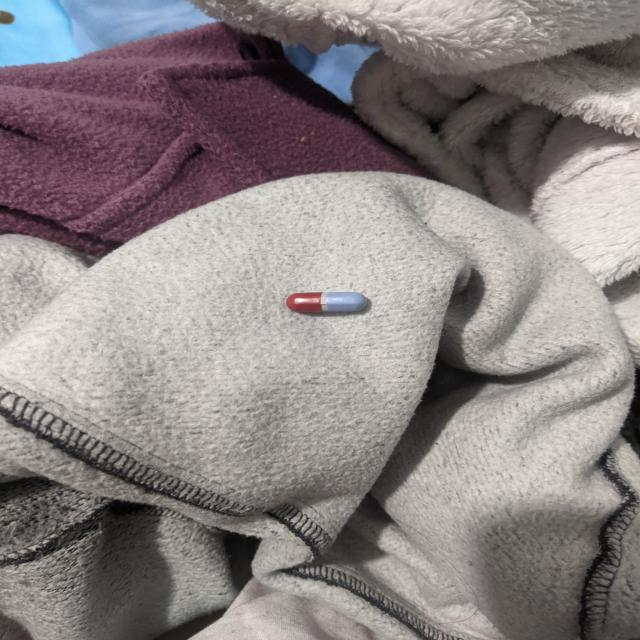non-organic waste: (285, 291, 368, 312)
